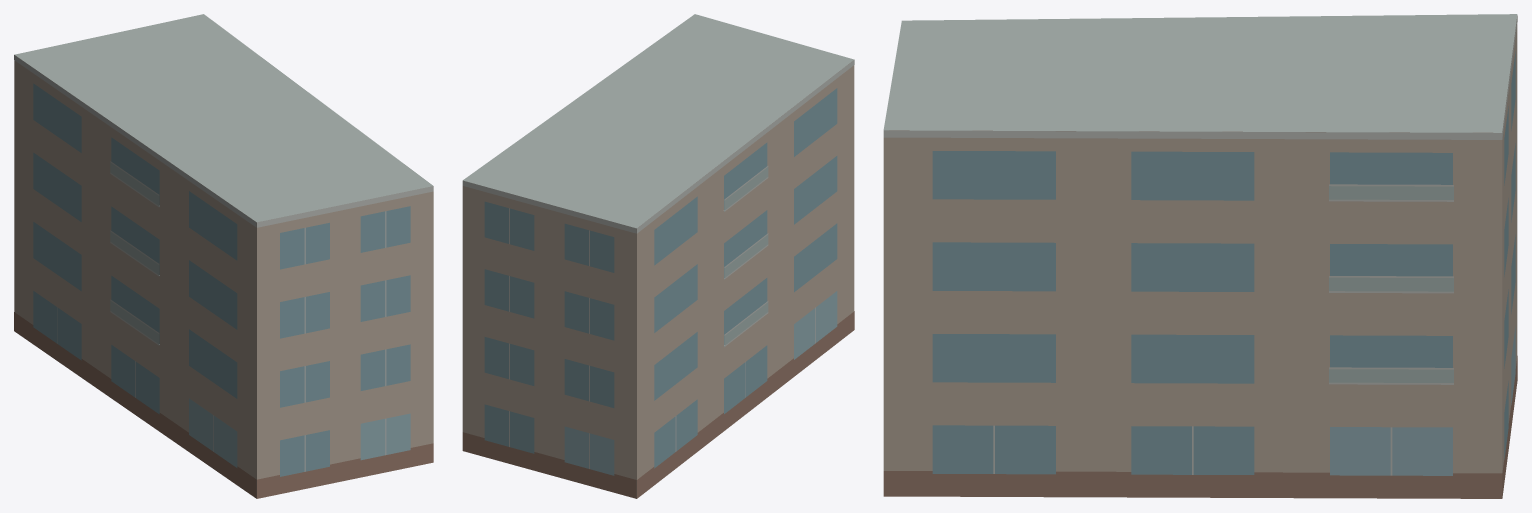
File: survey-upis-32495699.glb
3 views of the same model, side by side, from view 1: azimuth 30°, elevation 25°; view 2: azimuth 150°, elevation 25°; view 3: azimuth 270°, elevation 25° (orthographic). The views are drawn at different scales.
Parts seen in each view (by area): view 1: survey-upis-32495699.tmp; view 2: survey-upis-32495699.tmp; view 3: survey-upis-32495699.tmp.
Part boxes in pixels (x1=…): survey-upis-32495699.tmp: x1=14, y1=14, x2=433, y2=498; survey-upis-32495699.tmp: x1=462, y1=14, x2=854, y2=498; survey-upis-32495699.tmp: x1=883, y1=14, x2=1517, y2=498.
Size of the model in its own units: 8.66 by 12.4 by 19.47.
